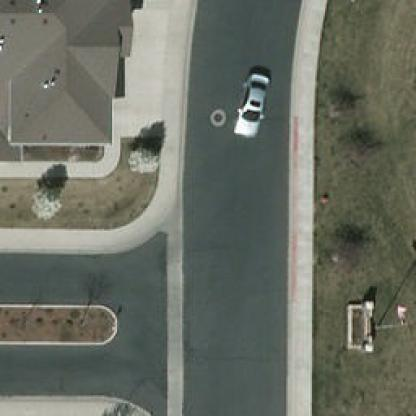car: (232, 66, 272, 136)
